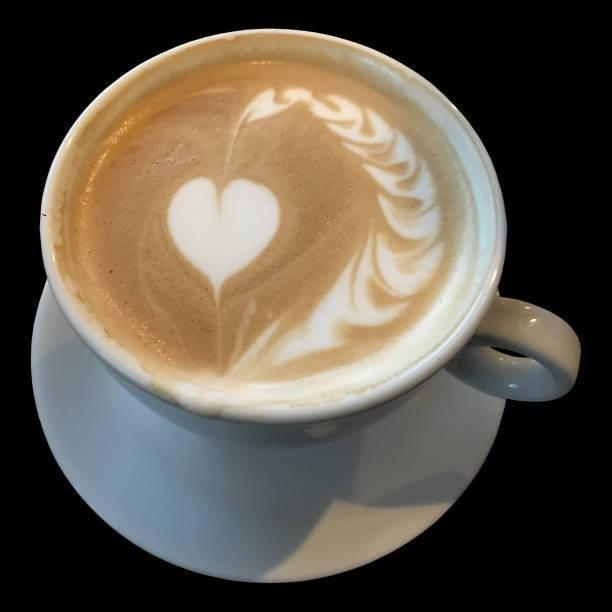cup-handle: (23, 24, 597, 452)
